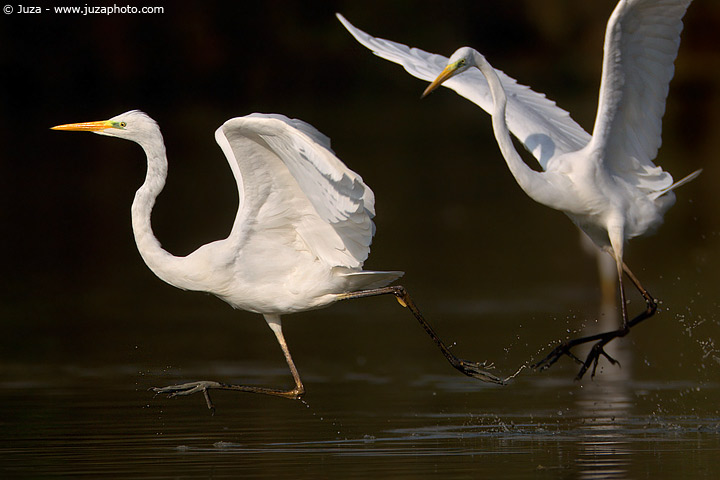bird: (330, 7, 700, 382), (48, 105, 430, 403)
